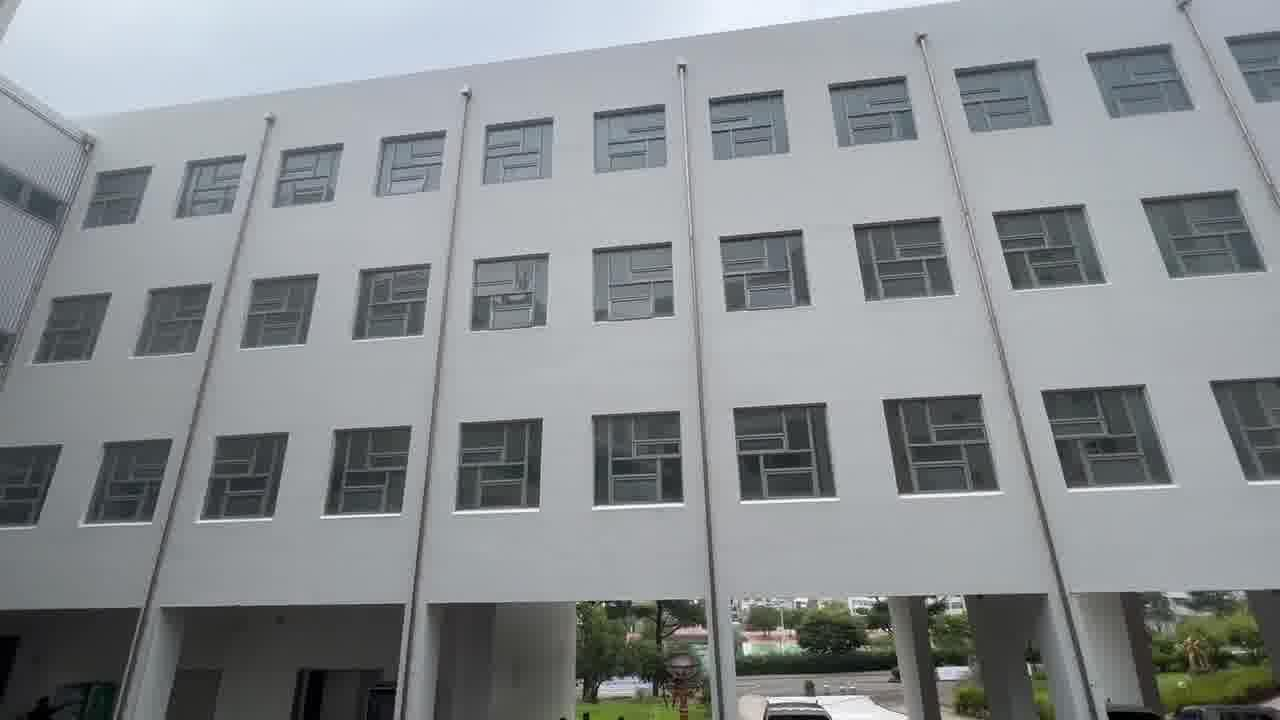building: (67, 63, 1280, 561)
